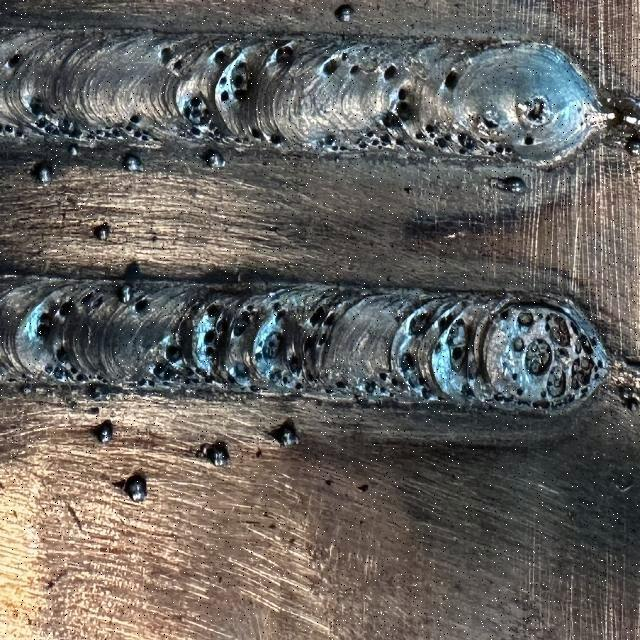Porosity: (446, 318, 466, 372), (525, 338, 551, 376), (571, 357, 596, 390), (546, 313, 570, 347), (570, 322, 594, 355), (184, 97, 210, 124), (230, 62, 250, 97), (546, 365, 566, 398), (84, 127, 130, 140), (409, 312, 430, 334), (264, 332, 281, 358), (234, 310, 250, 337), (554, 347, 571, 370), (381, 110, 401, 129), (36, 312, 50, 338), (275, 45, 294, 64), (182, 367, 200, 385), (458, 133, 476, 150), (396, 102, 411, 122), (400, 352, 415, 372), (166, 345, 182, 363), (189, 98, 202, 120), (445, 70, 459, 90), (215, 313, 229, 333), (518, 310, 534, 327), (210, 47, 226, 64), (322, 58, 339, 74), (159, 47, 174, 65), (302, 333, 315, 353), (439, 313, 454, 330), (310, 307, 324, 325), (5, 53, 21, 68), (208, 120, 220, 140), (460, 382, 474, 399), (322, 310, 335, 328), (200, 102, 210, 124), (384, 65, 398, 80), (135, 297, 149, 312), (162, 367, 176, 382), (494, 393, 514, 403), (170, 58, 182, 74), (59, 300, 71, 316), (52, 367, 66, 380), (134, 128, 149, 140), (30, 98, 42, 113), (42, 120, 54, 135), (379, 132, 391, 147), (56, 347, 68, 362), (512, 337, 524, 352), (182, 100, 191, 119), (495, 143, 512, 153), (406, 375, 419, 388), (206, 305, 220, 317), (434, 137, 449, 148), (324, 135, 336, 148), (80, 292, 92, 305), (48, 123, 60, 136), (204, 330, 215, 344), (138, 378, 155, 387), (189, 97, 204, 107), (499, 308, 511, 320), (365, 380, 376, 393), (0, 125, 14, 135), (95, 375, 110, 384), (190, 125, 201, 137), (270, 133, 282, 144), (92, 297, 104, 308), (398, 88, 408, 101), (421, 387, 431, 400), (288, 350, 298, 362), (425, 123, 435, 135), (76, 373, 88, 383), (275, 310, 285, 322), (281, 370, 289, 385), (434, 340, 442, 354), (152, 363, 162, 374), (36, 117, 46, 128), (220, 90, 230, 101), (251, 129, 262, 139), (415, 130, 426, 140), (205, 373, 216, 383), (205, 345, 214, 357), (306, 370, 315, 382), (390, 375, 399, 387), (480, 137, 495, 144), (350, 65, 360, 75), (130, 113, 140, 123), (356, 138, 366, 148), (524, 135, 534, 145), (418, 373, 425, 387), (14, 128, 24, 137), (395, 135, 404, 145), (272, 302, 281, 312), (340, 50, 348, 61), (318, 333, 326, 344), (331, 142, 339, 152), (44, 363, 52, 373), (254, 350, 262, 360), (336, 380, 346, 388), (590, 337, 598, 347), (195, 363, 202, 374), (459, 147, 468, 155), (256, 338, 264, 347), (379, 372, 387, 381), (540, 390, 548, 399), (318, 138, 325, 148), (594, 365, 599, 379), (366, 130, 374, 138), (536, 310, 544, 318), (125, 122, 132, 131), (219, 75, 226, 84), (371, 137, 378, 146), (444, 133, 451, 142), (486, 148, 495, 155), (245, 305, 254, 312), (325, 387, 334, 394), (516, 387, 522, 397), (295, 382, 302, 390), (161, 380, 169, 387), (380, 387, 388, 393), (598, 360, 604, 368), (378, 143, 384, 150), (512, 373, 518, 380), (340, 145, 348, 150), (70, 368, 78, 373), (364, 45, 369, 52), (429, 132, 434, 138), (389, 392, 394, 398), (88, 375, 91, 378)
Spatters: (195, 442, 230, 467), (269, 418, 299, 446), (122, 472, 148, 503), (489, 177, 526, 193), (201, 148, 225, 168), (59, 117, 81, 138), (31, 162, 51, 183), (95, 420, 112, 443), (122, 153, 142, 172), (335, 5, 354, 21), (625, 135, 640, 154), (94, 223, 110, 239), (120, 285, 132, 303), (229, 365, 238, 381), (69, 143, 79, 157), (21, 385, 31, 397), (358, 483, 369, 492), (46, 580, 54, 590), (89, 407, 98, 415), (255, 448, 262, 458), (325, 478, 332, 486), (404, 187, 412, 194), (334, 157, 342, 163)
